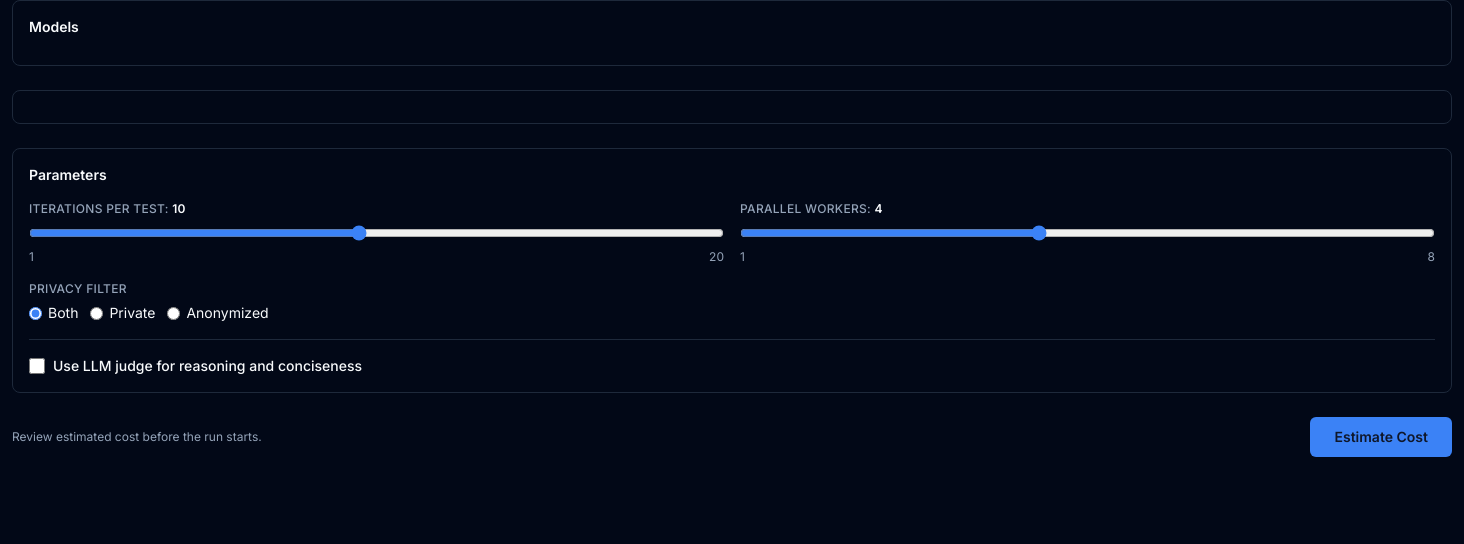
Scenario: notifies when benchmark cost estimation fails
Click the button "Estimate Cost" at (1381, 437), box x1=1310 y1=417 x2=1452 y2=457
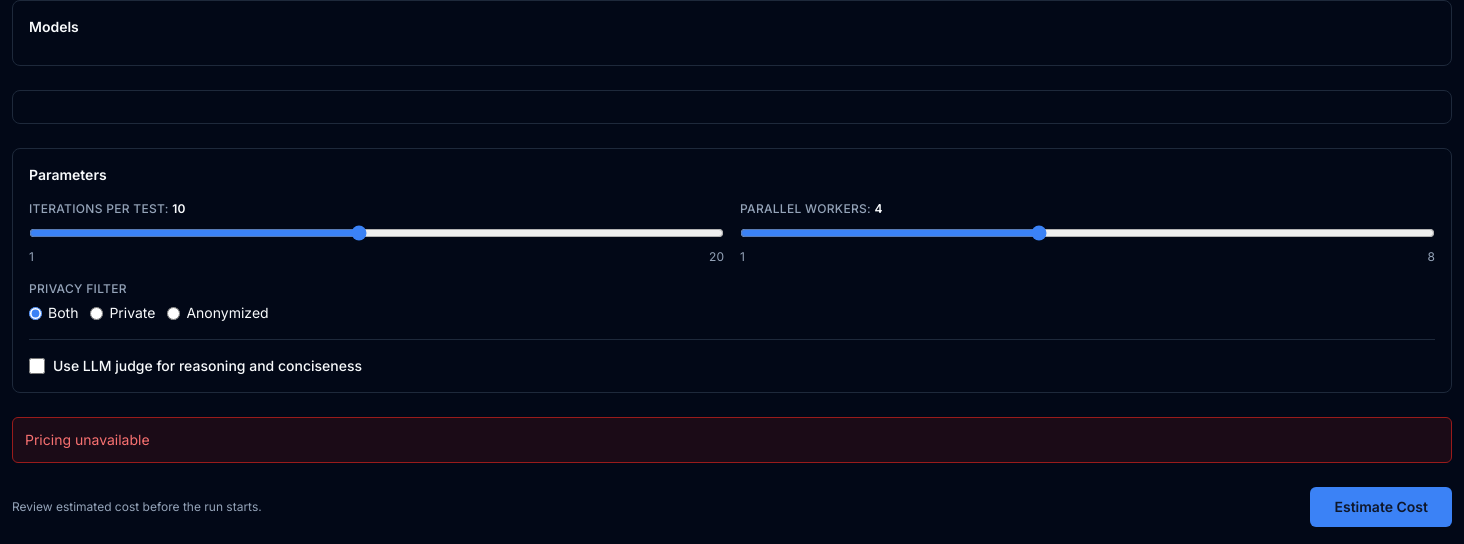
Now the text "Pricing unavailable" is shown, box x1=12 y1=417 x2=1452 y2=463
